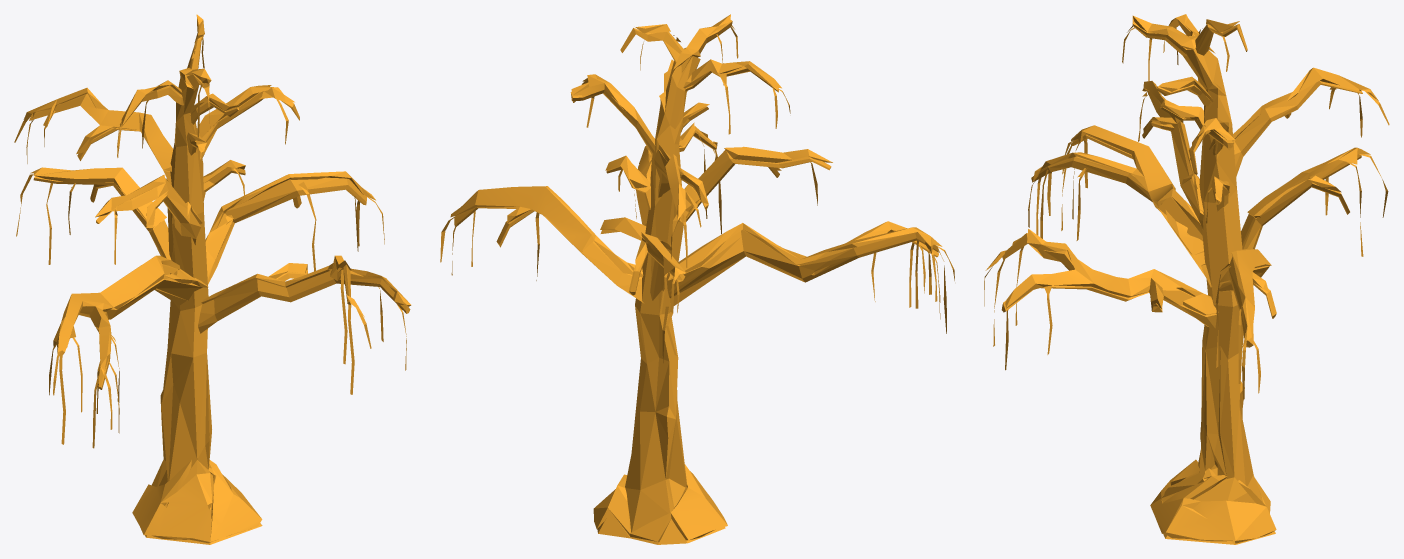
The model's file is SM_Tree_Willow_Weeping_Dead_A_Snow.fbx.
The picture shows the model from 3 angles, left to right: view 1: azimuth 30°, elevation 25°; view 2: azimuth 150°, elevation 25°; view 3: azimuth 270°, elevation 25°; orthographic projection. The views are drawn at different scales.
Visible parts, largest first — view 1: tree-willow-weeping-dead-a-snow; view 2: tree-willow-weeping-dead-a-snow; view 3: tree-willow-weeping-dead-a-snow.
Boxes of the visible parts, box(x1,y1,x2,y2) form: tree-willow-weeping-dead-a-snow: box(14, 14, 411, 544); tree-willow-weeping-dead-a-snow: box(440, 14, 954, 544); tree-willow-weeping-dead-a-snow: box(984, 14, 1389, 544).
Bounding box in the file's own units: 5.35 × 5.99 × 4.37.
